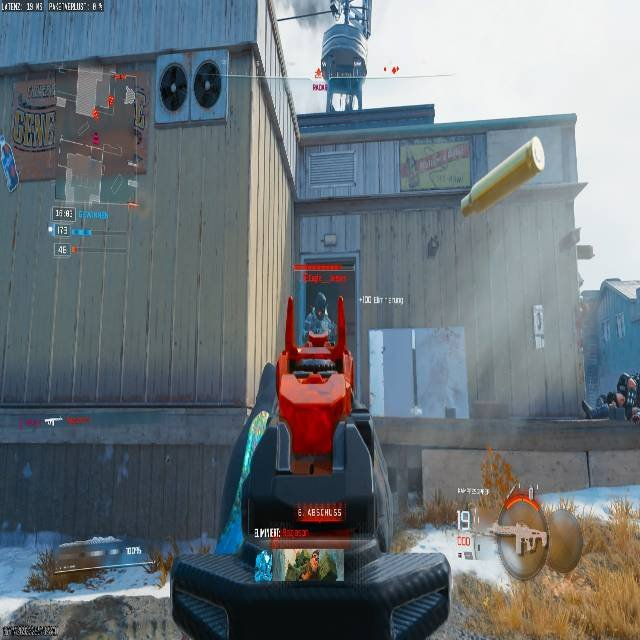player: (600, 372, 640, 425)
